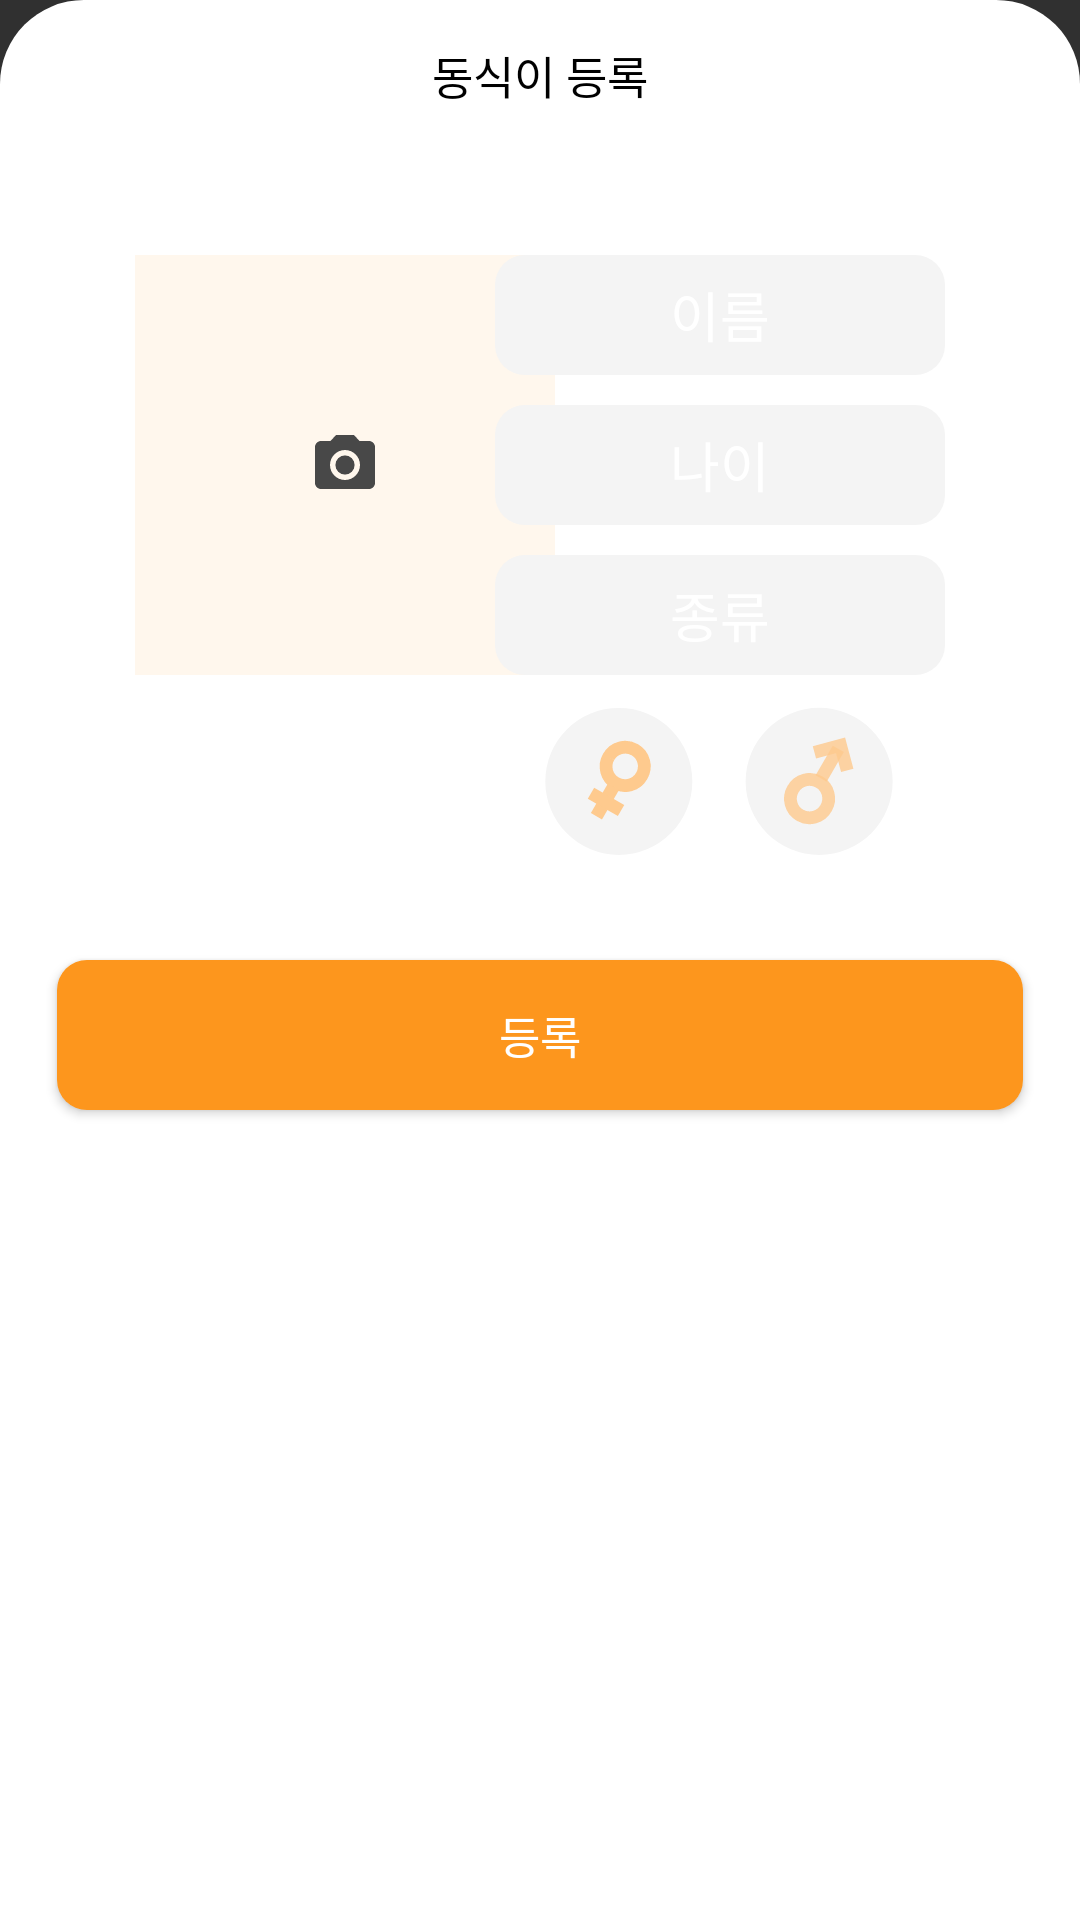

Screen size 1080 × 1920. Icon name, then its center in pixels as (x,y):
camera: (345,462)
female toggle back: (619,781)
male toggle back: (819,781)
